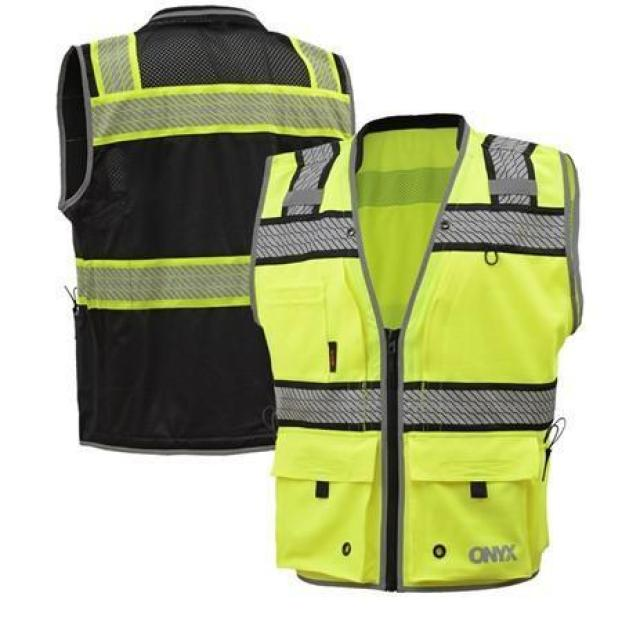Vest: (244, 109, 584, 590), (52, 7, 356, 455)
